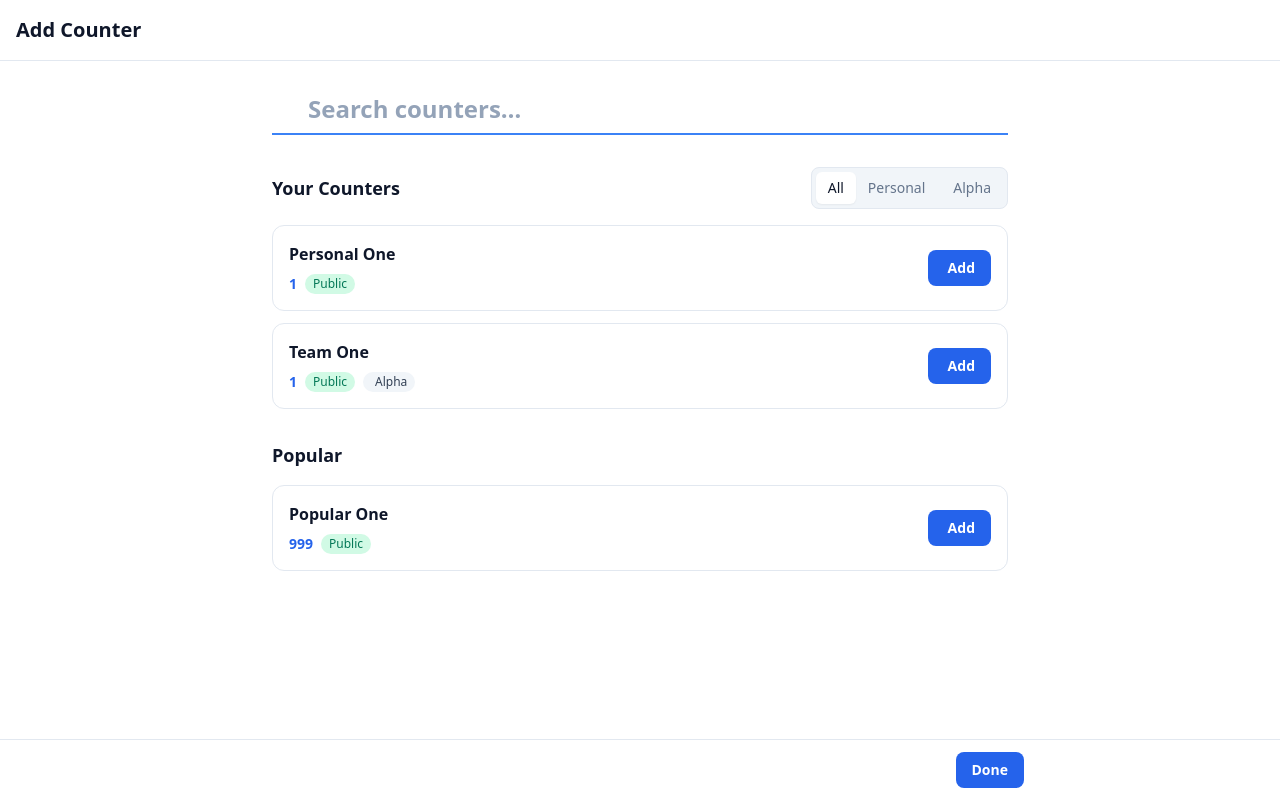
Test: AddCounterOverlay › searches both scopes with the query and shows Other Counters
The image size is (1280, 800).
Type "one" into the field labelled "Search counters" at (640, 110), box [272,85,1008,135]
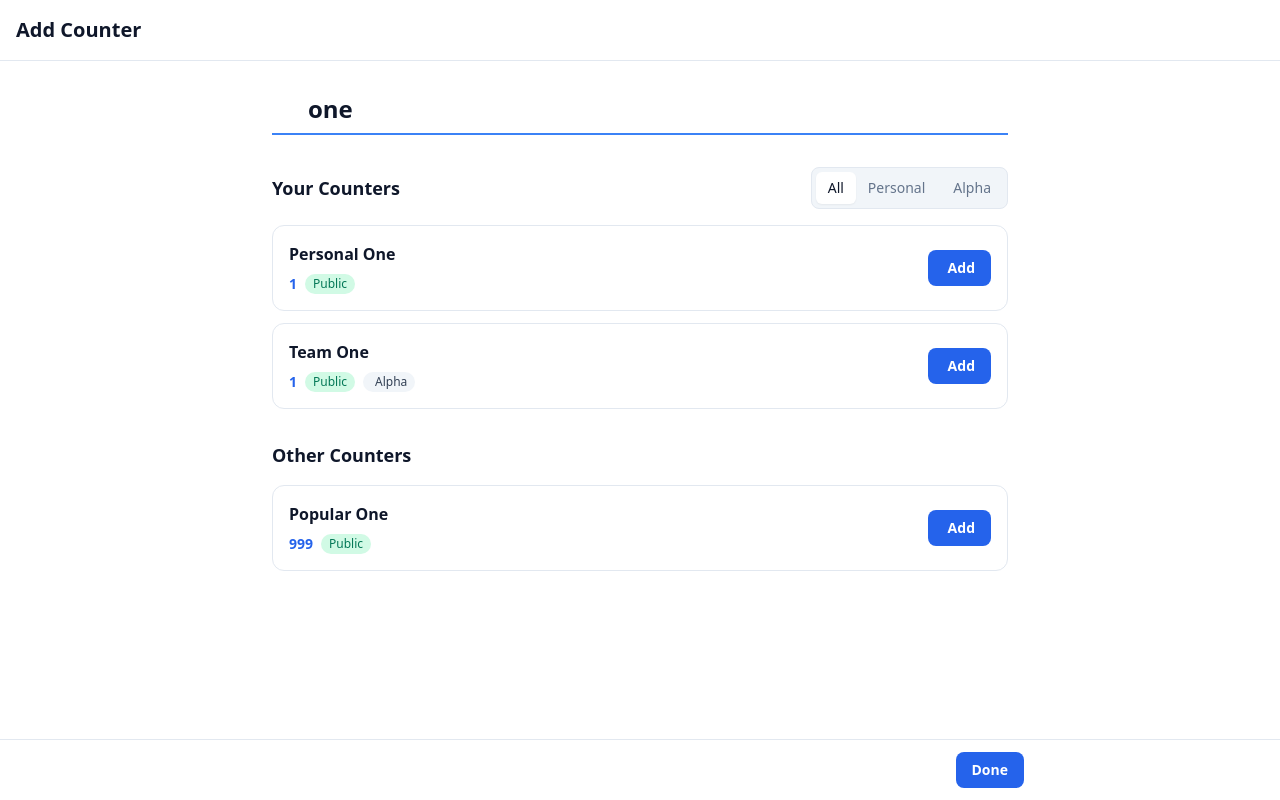
Now the element "Other Counters" is shown, box [272,441,1008,571]
